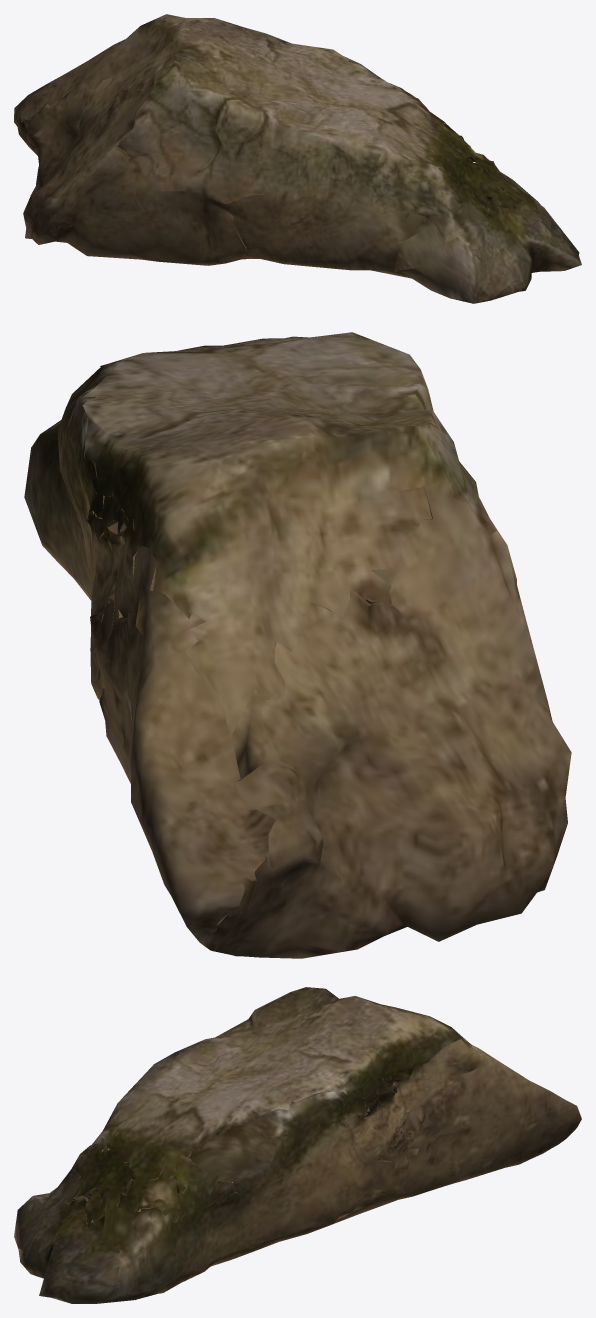
Rendered from moss_boulder.glb.
3 views of the same model, one above another, from view 1: azimuth 30°, elevation 25°; view 2: azimuth 150°, elevation 25°; view 3: azimuth 270°, elevation 25° (orthographic). The views are drawn at different scales.
Visible parts, largest first — view 1: rock_moss_set_01_rock02; view 2: rock_moss_set_01_rock02; view 3: rock_moss_set_01_rock02.
Part boxes in pixels (x1,y1,x2,y2): rock_moss_set_01_rock02: (14, 14, 581, 303); rock_moss_set_01_rock02: (24, 332, 571, 958); rock_moss_set_01_rock02: (14, 987, 581, 1303).
Size of the model in its own units: 2.65 by 1.26 by 3.26.
1 material, 1 textured.
